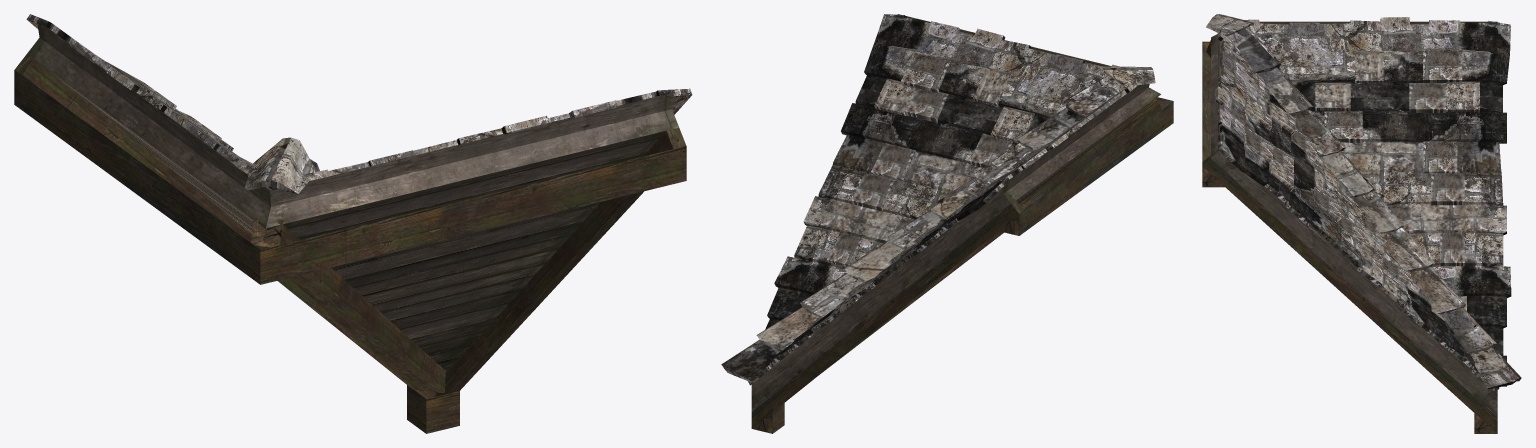
The picture shows the model from 3 angles, left to right: view 1: azimuth 30°, elevation 25°; view 2: azimuth 150°, elevation 25°; view 3: azimuth 270°, elevation 25°; orthographic projection. The views are drawn at different scales.
Visible parts, largest first — view 1: SM_BB_T3_Roof_Large_Valley_Diagonal_LOD0; view 2: SM_BB_T3_Roof_Large_Valley_Diagonal_LOD0; view 3: SM_BB_T3_Roof_Large_Valley_Diagonal_LOD0.
Part boxes in pixels (x1,y1,x2,y2): SM_BB_T3_Roof_Large_Valley_Diagonal_LOD0: (14,14,692,433); SM_BB_T3_Roof_Large_Valley_Diagonal_LOD0: (721,14,1173,433); SM_BB_T3_Roof_Large_Valley_Diagonal_LOD0: (1202,14,1521,433).
Bounding box in the file's own units: 3.44 × 3.65 × 3.45.
4 materials, 3 textured.
